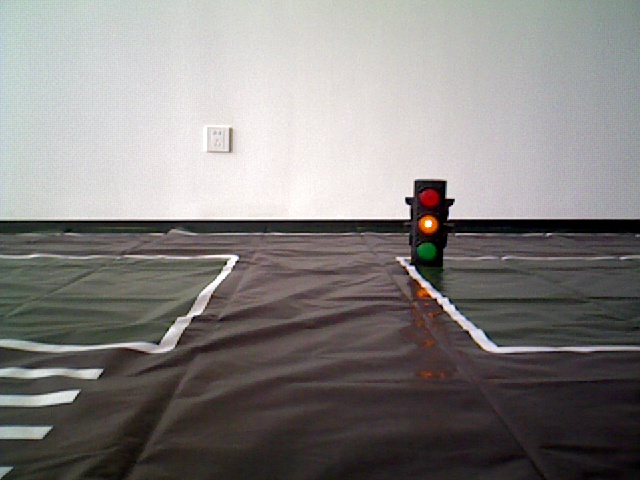yellow: (411, 184, 443, 261)
